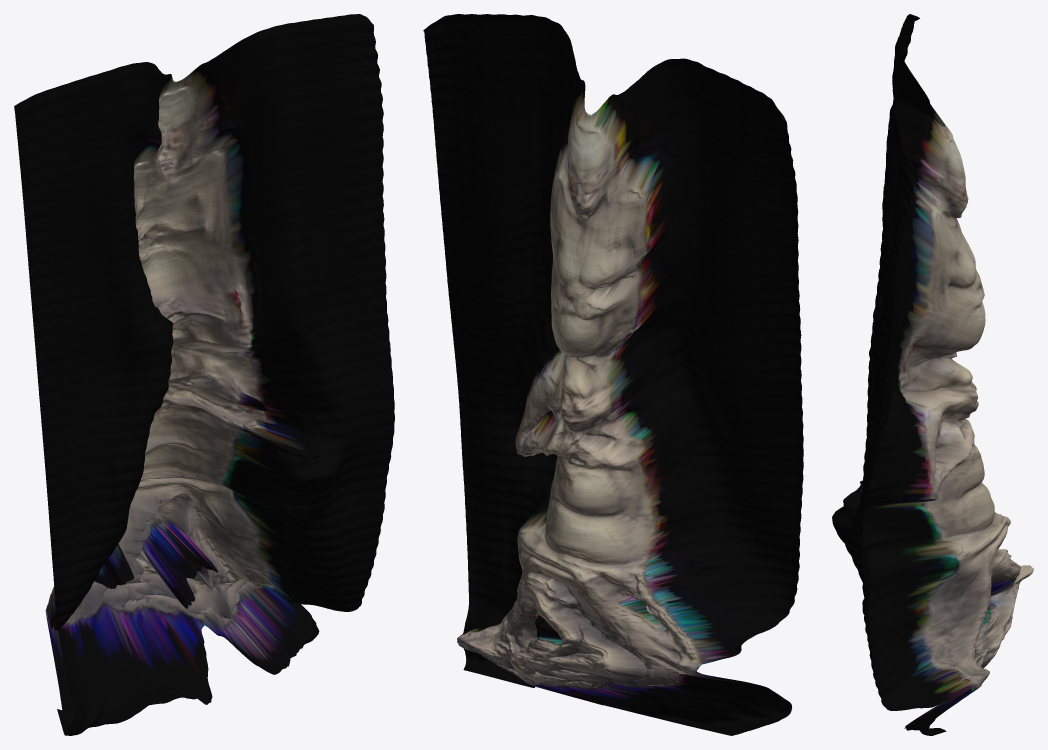
Rendered from template 1.fbx.
The picture shows the model from 3 angles, left to right: view 1: azimuth 30°, elevation 25°; view 2: azimuth 150°, elevation 25°; view 3: azimuth 270°, elevation 25°; orthographic projection. The views are drawn at different scales.
Visible parts, largest first — view 1: geometry_0; view 2: geometry_0; view 3: geometry_0.
Part boxes in pixels (box(x1,y1,x2,y2)): geometry_0: box(14, 14, 394, 735); geometry_0: box(423, 14, 803, 735); geometry_0: box(832, 14, 1033, 735).
Size of the model in its own units: 228 by 400 by 117.
